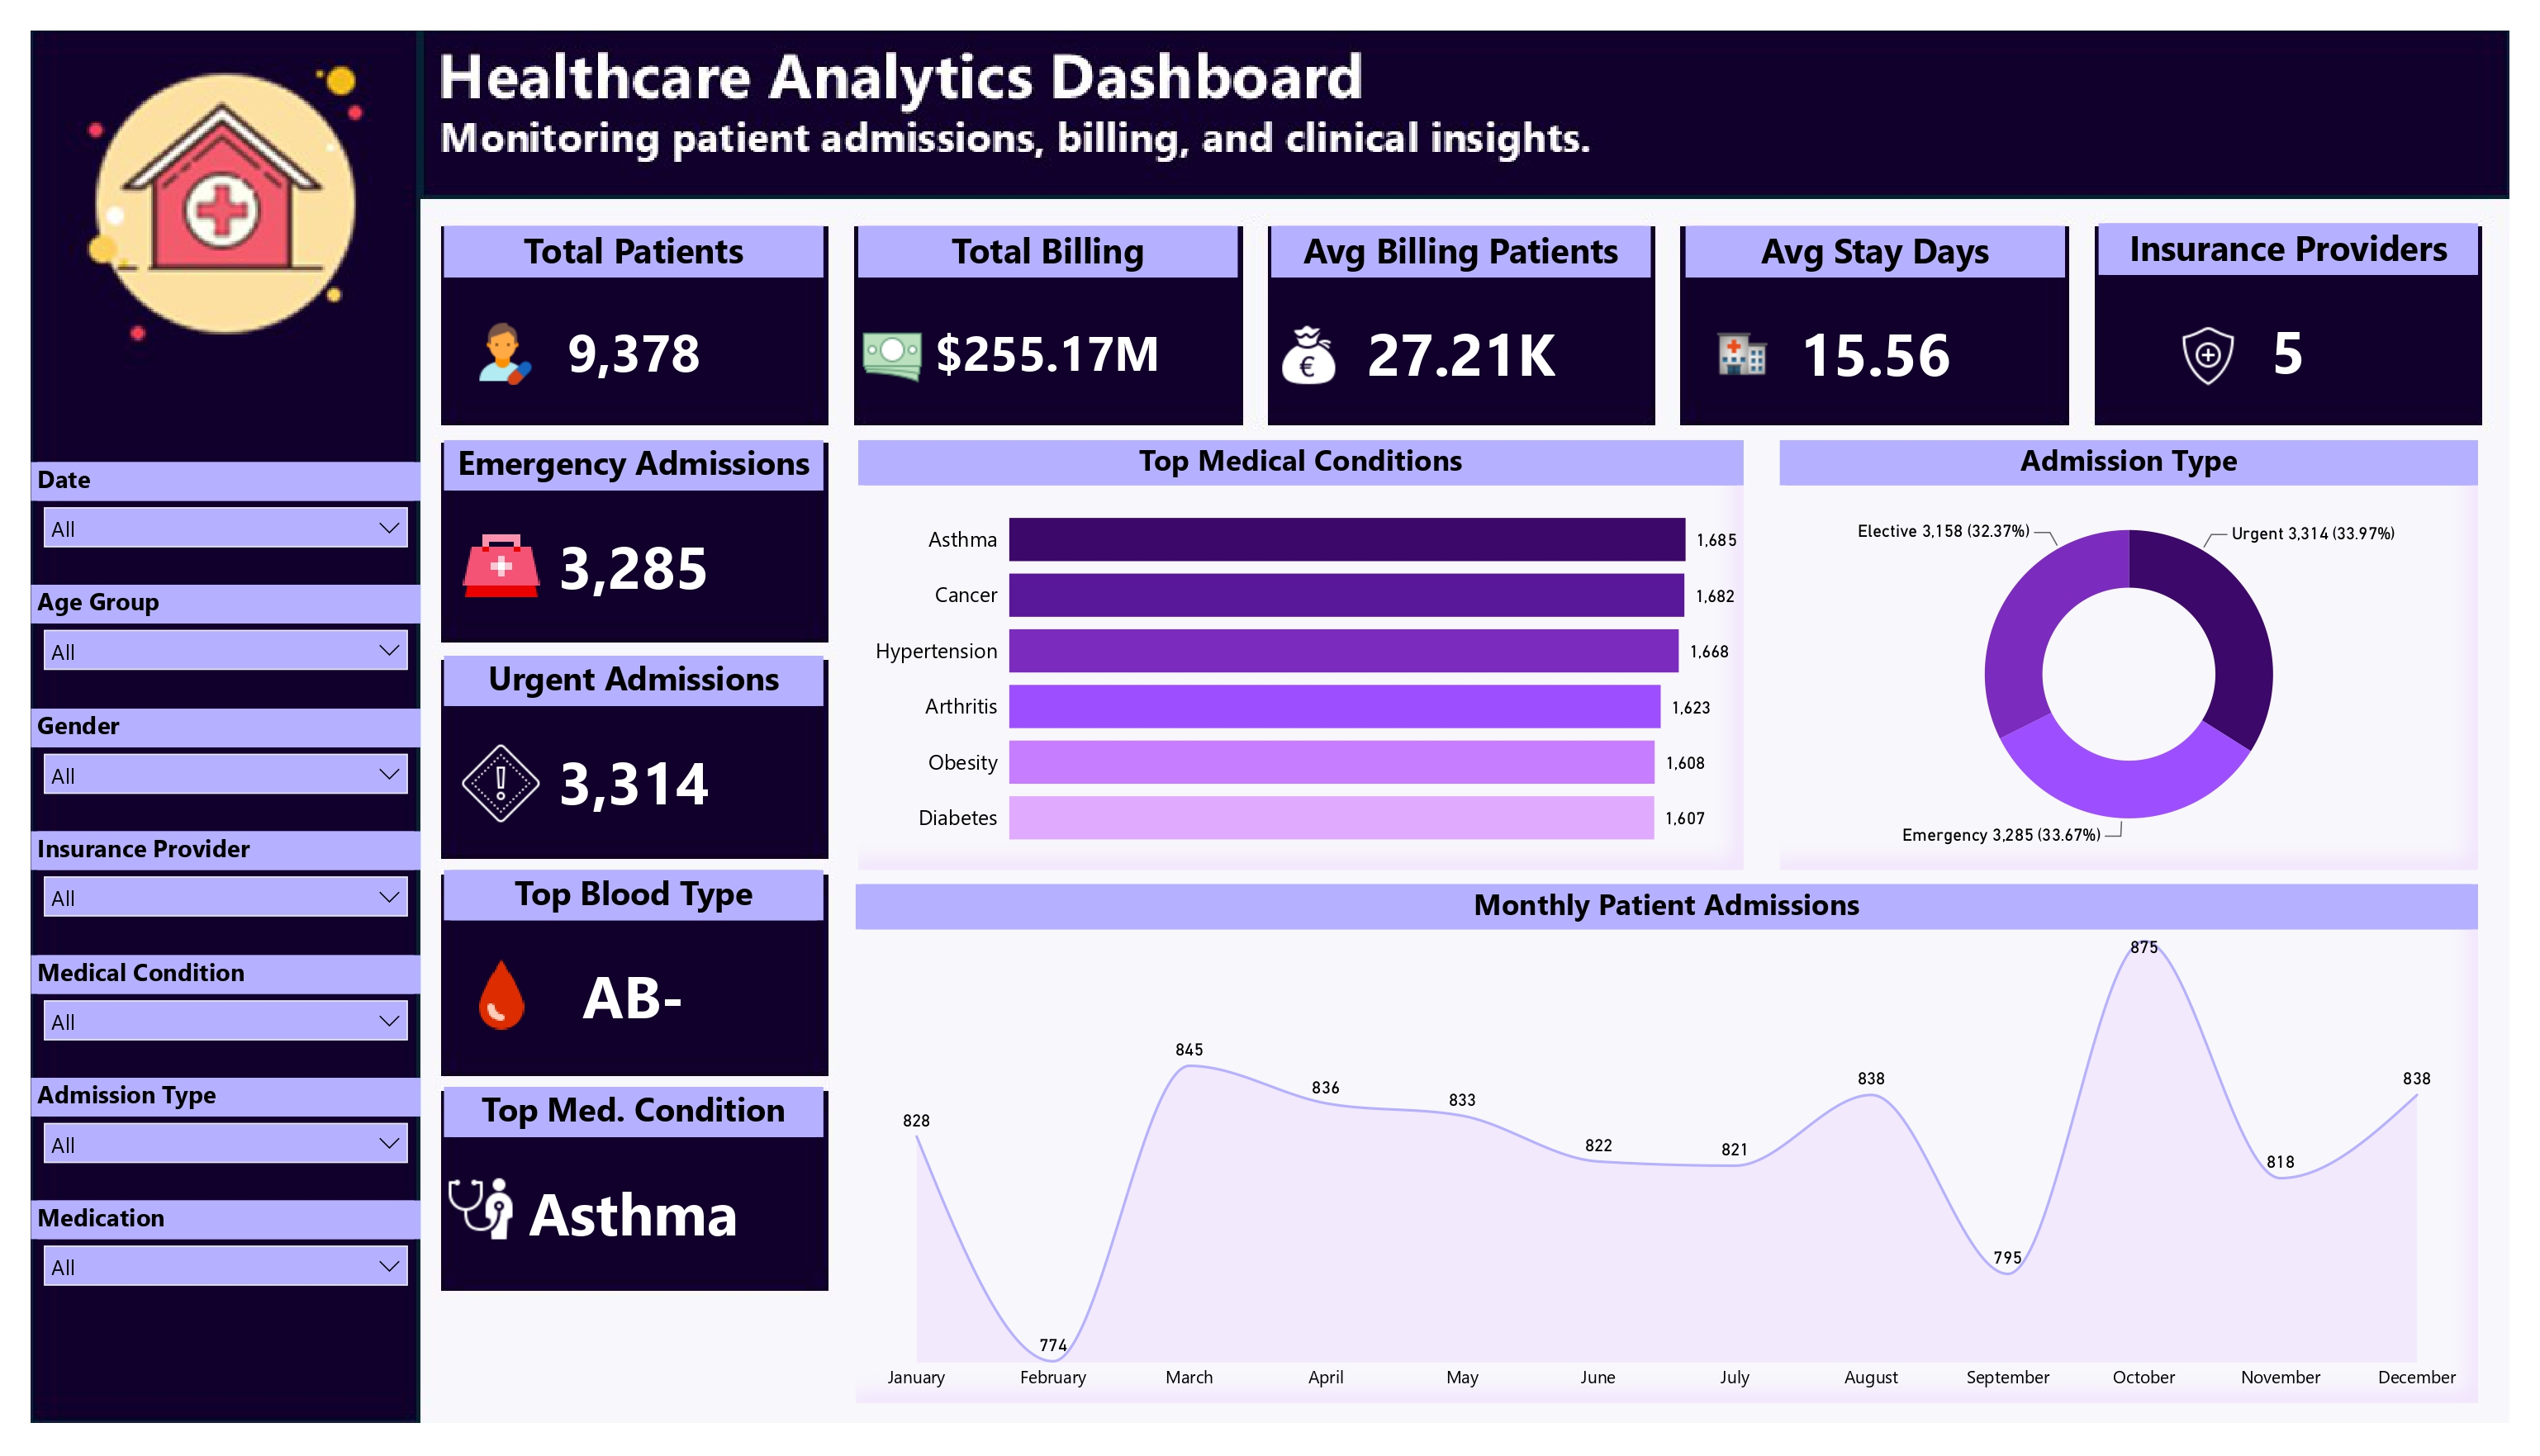

The dashboard page shown, as its layout file describes it:
{"tool":"powerbi","page":{"name":"Healthcare Analytics","canvas":[1920,1080],"ordinal":0},"visuals":[{"type":"cardVisual","title":"Total Patients","fields":{"Data":["Measuress.No. of Patients"]},"box":[320.4,150.8,294,150.8],"z":0},{"type":"cardVisual","title":"Total Billing","fields":{"Data":["Measuress.Total Billings"]},"box":[640.8,150.8,294,150.8],"z":1000},{"type":"cardVisual","title":"Avg Billing Patients","fields":{"Data":["Measuress.Average Billing per Patient"]},"box":[961.1,150.8,294,150.8],"z":2000},{"type":"cardVisual","title":"Avg Stay Days","fields":{"Data":["Measuress.Average Stay Days"]},"box":[1281.5,150.8,294,150.8],"z":3000},{"type":"cardVisual","title":"Emergency Admissions","fields":{"Data":["Measuress.Emergency Admissions"]},"box":[320.4,316.6,294,150.8],"z":4000},{"type":"cardVisual","title":"Urgent Admissions","fields":{"Data":["Measuress.Urgent Admmisions"]},"box":[320.4,484.3,294,150.8],"z":5000},{"type":"cardVisual","title":"Top Blood Type","fields":{"Data":["Measuress.Most Common Blood Type"]},"box":[320.4,650.2,294,150.8],"z":6000},{"type":"cardVisual","title":"Top Med. Condition","fields":{"Data":["Measuress.Most Common Medical Condition"]},"box":[320.4,817.9,294,150.8],"z":7000},{"type":"cardVisual","title":"Insurance Providers","fields":{"Data":["Measuress.Insurance Provider"]},"box":[1601.9,148.9,294,150.8],"z":8000},{"type":"slicer","title":"Date","fields":{"Values":["Calendar Table.Year"]},"box":[0,333.6,301.5,86.7],"z":9000},{"type":"slicer","title":"Age Group","fields":{"Values":["Dataset.Age Group"]},"box":[0,429.1,301.5,86.7],"z":10000},{"type":"slicer","title":"Gender","fields":{"Values":["Dataset.Gender"]},"box":[0,524.5,301.5,86.7],"z":11000},{"type":"slicer","title":"Insurance Provider","fields":{"Values":["Dataset.Insurance Provider"]},"box":[0,620,301.5,86.7],"z":12000},{"type":"slicer","title":"Medical Condition","fields":{"Values":["Dataset.Medical Condition"]},"box":[0,715.5,301.5,86.7],"z":13000},{"type":"slicer","title":"Admission Type","fields":{"Values":["Dataset.Admission Type"]},"box":[0,811,301.5,86.7],"z":14000},{"type":"slicer","title":"Medication","fields":{"Values":["Dataset.Medication"]},"box":[0,906.5,301.5,86.7],"z":15000},{"type":"image","box":[320.4,708.6,88.6,75.4],"z":16000},{"type":"image","box":[638.9,218.6,58.4,62.2],"z":17000},{"type":"image","box":[329.8,214.8,71.6,64.1],"z":18000},{"type":"image","box":[1296.6,216.7,58.4,62.2],"z":19000},{"type":"image","box":[961.1,218.6,58.4,62.2],"z":20000},{"type":"image","box":[1658.4,220.5,58.4,62.2],"z":21000},{"type":"image","box":[320.4,544.6,88.6,75.4],"z":22000},{"type":"image","box":[320.4,376.9,88.6,75.4],"z":23000},{"type":"image","box":[316.7,874.1,65.1,76],"z":24000},{"type":"clusteredBarChart","title":"Top Medical Conditions","fields":{"Category":["Dataset.Medical Condition"],"Y":["Measuress.No. of Patients"]},"box":[640.8,316.6,686,333.6],"z":25000},{"type":"donutChart","title":"Admission Type","fields":{"Category":["Dataset.Admission Type"],"Y":["Measuress.No. of Patients"]},"box":[1355,316.6,540.9,333.6],"z":26000},{"type":"lineChart","title":"Monthly Patient Admissions","fields":{"Y":["Measuress.No. of Patients"],"Category":["Calendar Table.Date.Variation.Date Hierarchy.Month"]},"box":[638.9,661.5,1257,401.4],"z":27000}]}

Visuals, with their boxes on the page's 1920x1080 design canvas (x1, y1, x2, y2). These are canvas units, not pixel positions in the 2540x1456 screenshot, which may show the page scaled, cropped or inside an application window:
"Total Patients" cardVisual: Rect(320, 151, 614, 302)
"Total Billing" cardVisual: Rect(641, 151, 935, 302)
"Avg Billing Patients" cardVisual: Rect(961, 151, 1255, 302)
"Avg Stay Days" cardVisual: Rect(1282, 151, 1576, 302)
"Emergency Admissions" cardVisual: Rect(320, 317, 614, 467)
"Urgent Admissions" cardVisual: Rect(320, 484, 614, 635)
"Top Blood Type" cardVisual: Rect(320, 650, 614, 801)
"Top Med. Condition" cardVisual: Rect(320, 818, 614, 969)
"Insurance Providers" cardVisual: Rect(1602, 149, 1896, 300)
"Date" slicer: Rect(0, 334, 302, 420)
"Age Group" slicer: Rect(0, 429, 302, 516)
"Gender" slicer: Rect(0, 524, 302, 611)
"Insurance Provider" slicer: Rect(0, 620, 302, 707)
"Medical Condition" slicer: Rect(0, 716, 302, 802)
"Admission Type" slicer: Rect(0, 811, 302, 898)
"Medication" slicer: Rect(0, 906, 302, 993)
image: Rect(320, 709, 409, 784)
image: Rect(639, 219, 697, 281)
image: Rect(330, 215, 401, 279)
image: Rect(1297, 217, 1355, 279)
image: Rect(961, 219, 1020, 281)
image: Rect(1658, 220, 1717, 283)
image: Rect(320, 545, 409, 620)
image: Rect(320, 377, 409, 452)
image: Rect(317, 874, 382, 950)
"Top Medical Conditions" clusteredBarChart: Rect(641, 317, 1327, 650)
"Admission Type" donutChart: Rect(1355, 317, 1896, 650)
"Monthly Patient Admissions" lineChart: Rect(639, 662, 1896, 1063)
